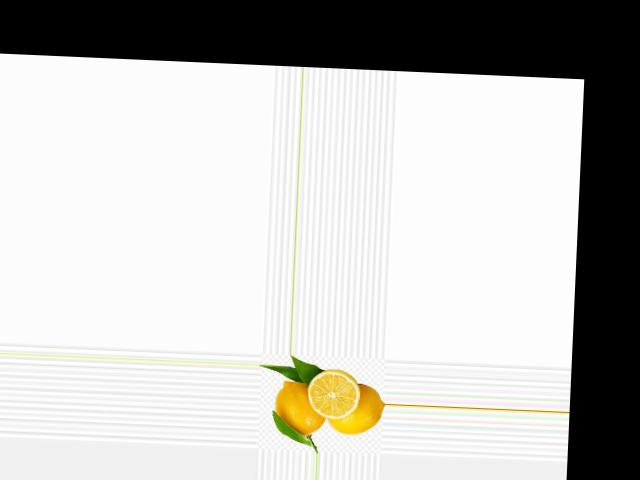lemon: (329, 378, 385, 435)
